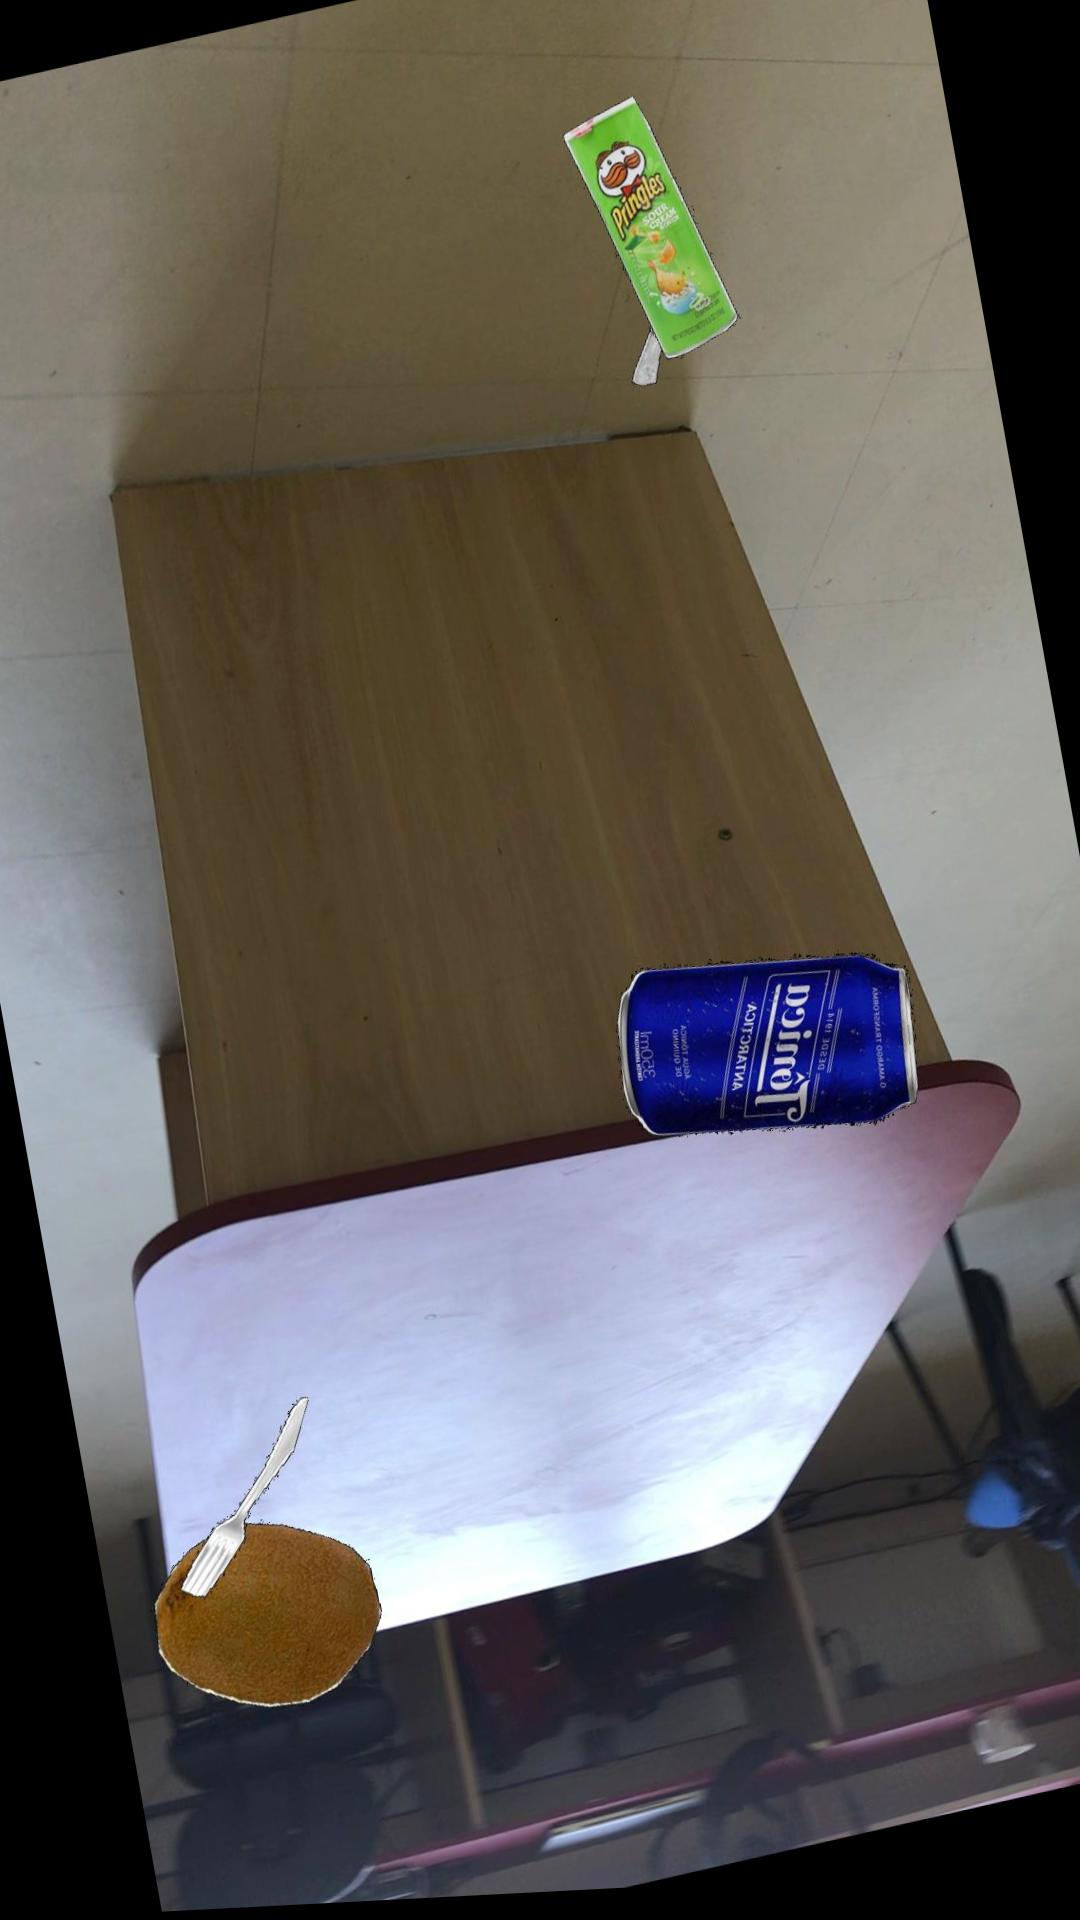fork: (181, 1401, 309, 1600)
kiwi: (155, 1526, 383, 1711)
pringles: (563, 103, 740, 367)
spoon: (632, 336, 663, 394)
tonic: (618, 962, 919, 1143)
